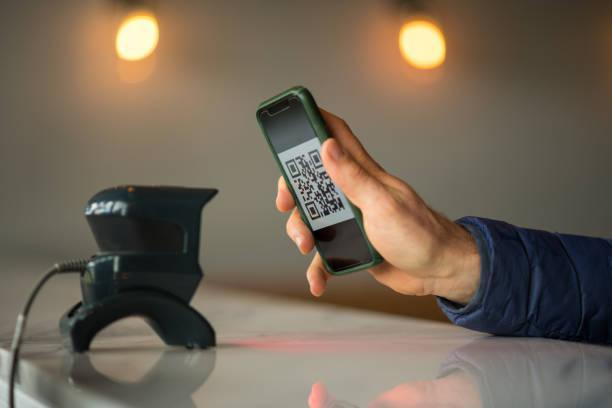qr_code: (285, 149, 345, 220)
